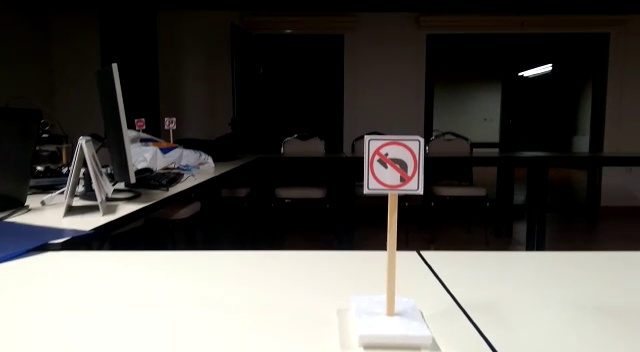sola_donulmez: (366, 135, 417, 191)
